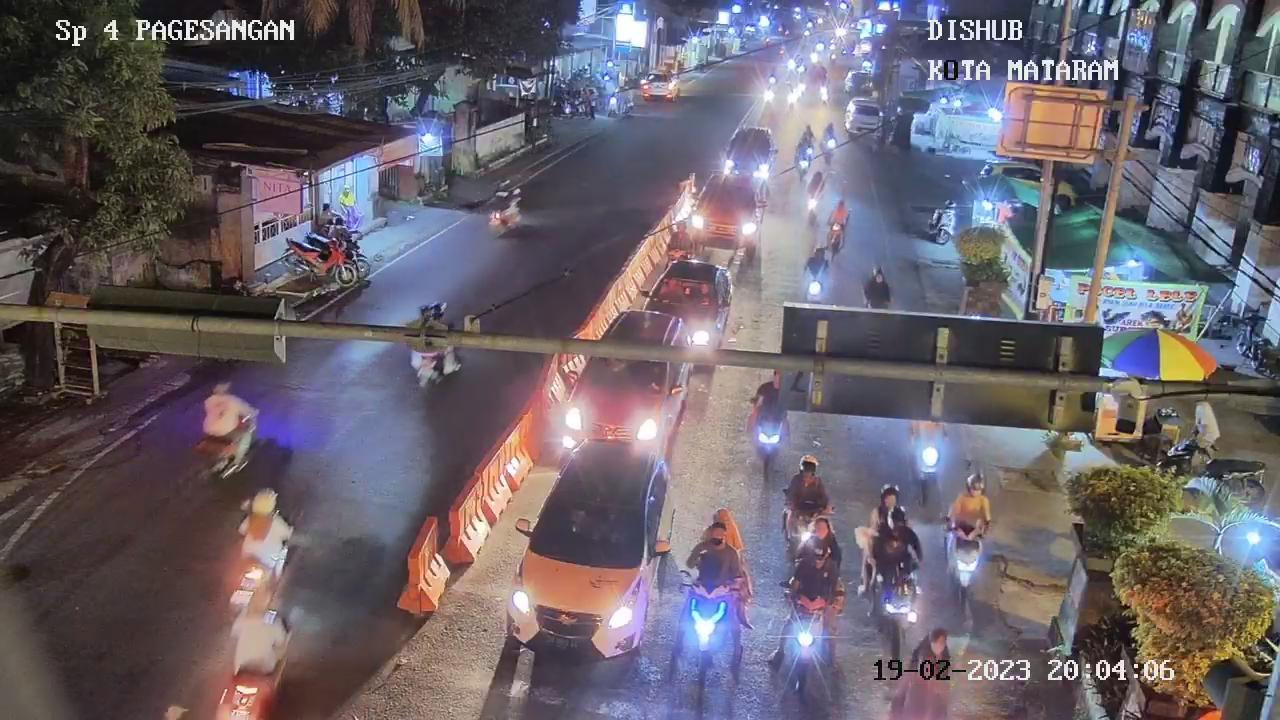car: (500, 429, 680, 664), (560, 305, 700, 466), (631, 256, 738, 378), (682, 167, 768, 259), (713, 119, 779, 190), (641, 75, 681, 101)
motorbike: (863, 563, 931, 670), (677, 576, 739, 689), (773, 590, 839, 688), (940, 510, 991, 608), (782, 492, 828, 564), (747, 405, 786, 482), (908, 430, 947, 503), (803, 267, 831, 311), (802, 190, 828, 230), (822, 220, 847, 259), (818, 136, 841, 172)
person: (221, 576, 297, 680), (230, 480, 304, 571), (199, 373, 259, 444), (682, 517, 737, 588), (786, 539, 843, 605), (780, 451, 833, 520), (946, 470, 993, 534), (872, 521, 922, 579), (864, 483, 909, 544), (487, 167, 520, 220), (860, 266, 895, 312), (662, 218, 694, 264), (803, 242, 831, 277), (827, 197, 854, 231), (803, 169, 827, 197), (819, 120, 838, 141)
